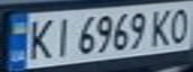6: (72, 12, 96, 55), (112, 10, 133, 52)
9: (127, 8, 151, 51), (93, 11, 115, 54)
I: (48, 15, 75, 57)
K: (21, 15, 57, 61), (148, 6, 175, 47)
O: (163, 5, 193, 44)
